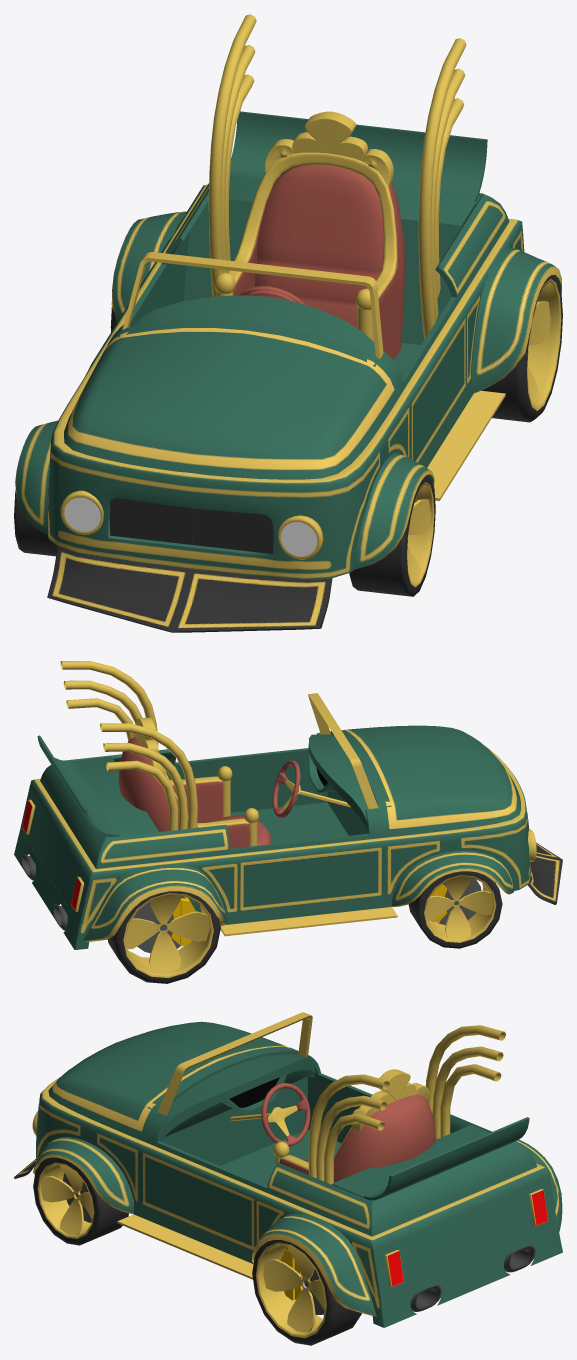
Rendered from R.Kidul_CarScalePose.fbx.
3 renders of one model, top to bottom at view 1: azimuth 30°, elevation 25°; view 2: azimuth 150°, elevation 25°; view 3: azimuth 270°, elevation 25°, orthographic. The views are drawn at different scales.
Parts seen in each view (by area): view 1: Plane.001; view 2: Plane.001; view 3: Plane.001.
Boxes of the visible parts, x1,y1,x2,y2 form: Plane.001: [14, 14, 562, 632]; Plane.001: [14, 661, 562, 983]; Plane.001: [14, 1012, 562, 1345].
Size of the model in its own units: 2243 by 2243 by 1154.
